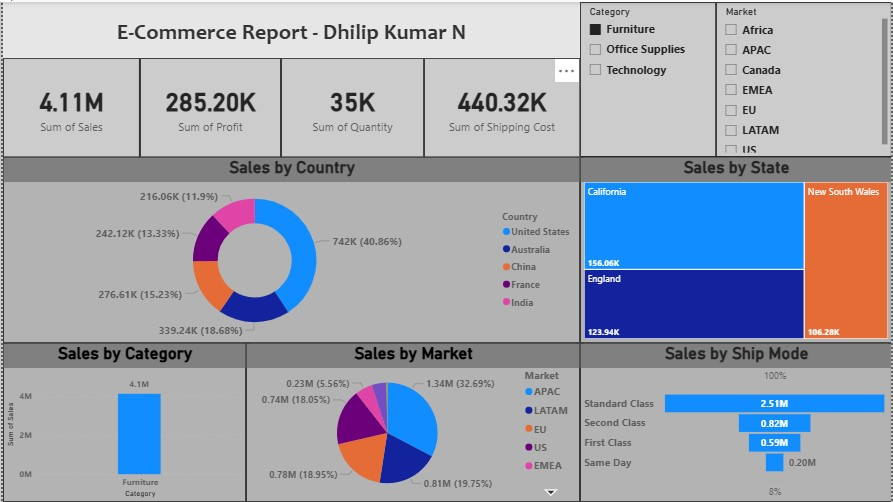

This screenshot's page, from the dashboard's own definition file:
{"tool":"powerbi","page":{"name":"Page 1","canvas":[1280,720],"ordinal":0},"visuals":[{"type":"columnChart","title":"Sales by Category","fields":{"Category":["Orders.Category"],"Y":["Sum(Orders.Sales)"]},"box":[0,491,349.9,229],"z":0},{"type":"pieChart","title":"Sales by Market","fields":{"Category":["Orders.Market"],"Y":["Sum(Orders.Sales)"]},"box":[349.9,491,481,229],"z":1000},{"type":"funnel","title":"Sales by Ship Mode","fields":{"Y":["Sum(Orders.Sales)"],"Category":["Orders.Ship Mode"]},"box":[830.9,491,449.3,229],"z":2000},{"type":"donutChart","title":"Sales by Country","fields":{"Category":["Orders.Country"],"Y":["Sum(Orders.Sales)"]},"box":[0,223.2,830.9,267.8],"z":3000},{"type":"treemap","title":"Sales by State","fields":{"Values":["Sum(Orders.Sales)"],"Group":["Orders.State"]},"box":[830.9,223.2,449.3,267.8],"z":4000},{"type":"card","fields":{"Values":["Sum(Orders.Sales)"]},"box":[0,80.6,197.3,142.6],"z":5000},{"type":"card","fields":{"Values":["Sum(Orders.Quantity)"]},"box":[400.3,80.6,205.9,142.6],"z":6000},{"type":"card","fields":{"Values":["Sum(Orders.Shipping Cost)"]},"box":[606.2,80.6,224.6,142.6],"z":7000},{"type":"slicer","fields":{"Values":["Orders.Category"]},"box":[830.9,0,195.8,223.2],"z":8000},{"type":"slicer","fields":{"Values":["Orders.Market"]},"box":[1026.7,0,253.4,223.2],"z":9000},{"type":"textbox","box":[0,0,830.9,80.6],"z":10000},{"type":"card","fields":{"Values":["Sum(Orders.Profit)"]},"box":[197.3,80.6,203,142.6],"z":11000}]}

Visuals, with their boxes in screenshot pixels (x1, y1, x2, y2), scaled from the page's 1280x720 canvas onto the 893x502 screenshot:
"Sales by Category" columnChart: (x1=0, y1=342, x2=244, y2=501)
"Sales by Market" pieChart: (x1=244, y1=342, x2=580, y2=501)
"Sales by Ship Mode" funnel: (x1=580, y1=342, x2=892, y2=501)
"Sales by Country" donutChart: (x1=0, y1=156, x2=580, y2=342)
"Sales by State" treemap: (x1=580, y1=156, x2=892, y2=342)
card - Sum(Orders.Sales): (x1=0, y1=56, x2=138, y2=156)
card - Sum(Orders.Quantity): (x1=279, y1=56, x2=423, y2=156)
card - Sum(Orders.Shipping Cost): (x1=423, y1=56, x2=580, y2=156)
slicer - Orders.Category: (x1=580, y1=0, x2=716, y2=156)
slicer - Orders.Market: (x1=716, y1=0, x2=892, y2=156)
textbox: (x1=0, y1=0, x2=580, y2=56)
card - Sum(Orders.Profit): (x1=138, y1=56, x2=279, y2=156)
